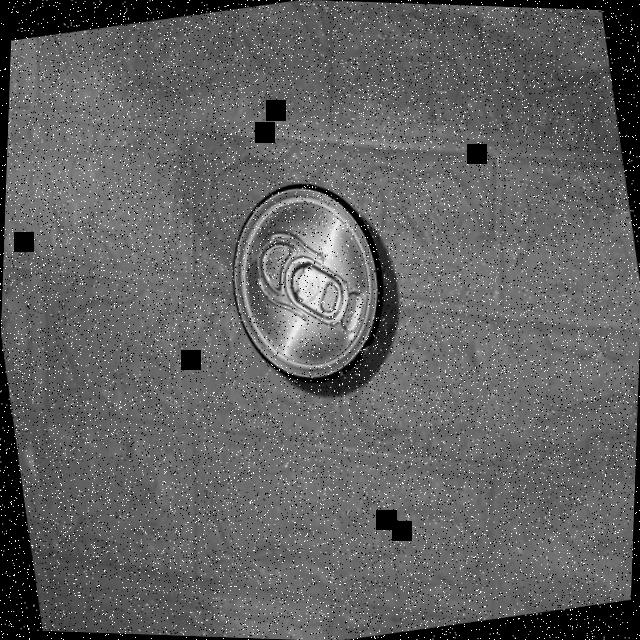can: (221, 180, 401, 398)
